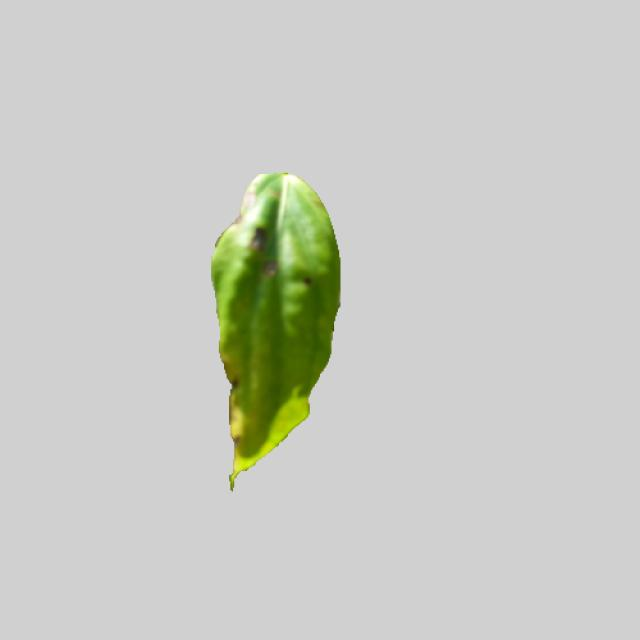yellow-mottle-virus: (201, 166, 347, 489)
